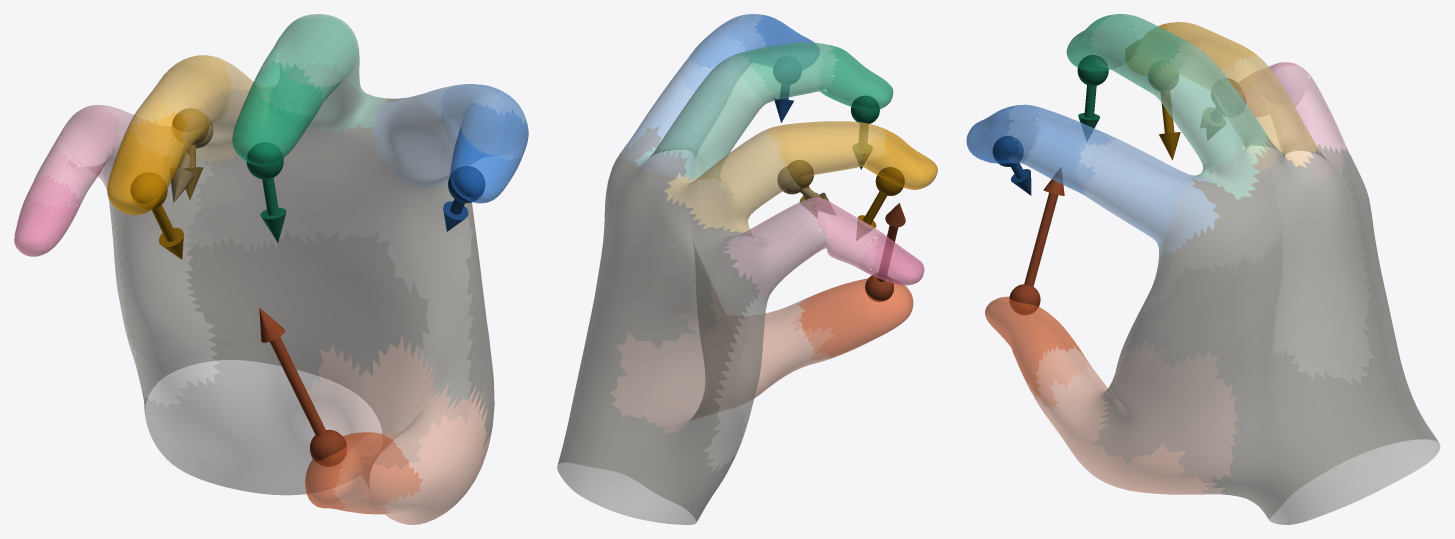
The model's file is unified_hand.glb.
The picture shows the model from 3 angles, left to right: view 1: azimuth 30°, elevation 25°; view 2: azimuth 150°, elevation 25°; view 3: azimuth 270°, elevation 25°; orthographic projection. The views are drawn at different scales.
Visible parts, largest first — view 1: uhcr; view 2: uhcr; view 3: uhcr.
Boxes of the visible parts, x1,y1,x2,y2 form: uhcr: [14, 14, 528, 524]; uhcr: [557, 14, 937, 524]; uhcr: [966, 14, 1440, 524].
Size of the model in its own units: 0.1185 by 0.143 by 0.1366.
